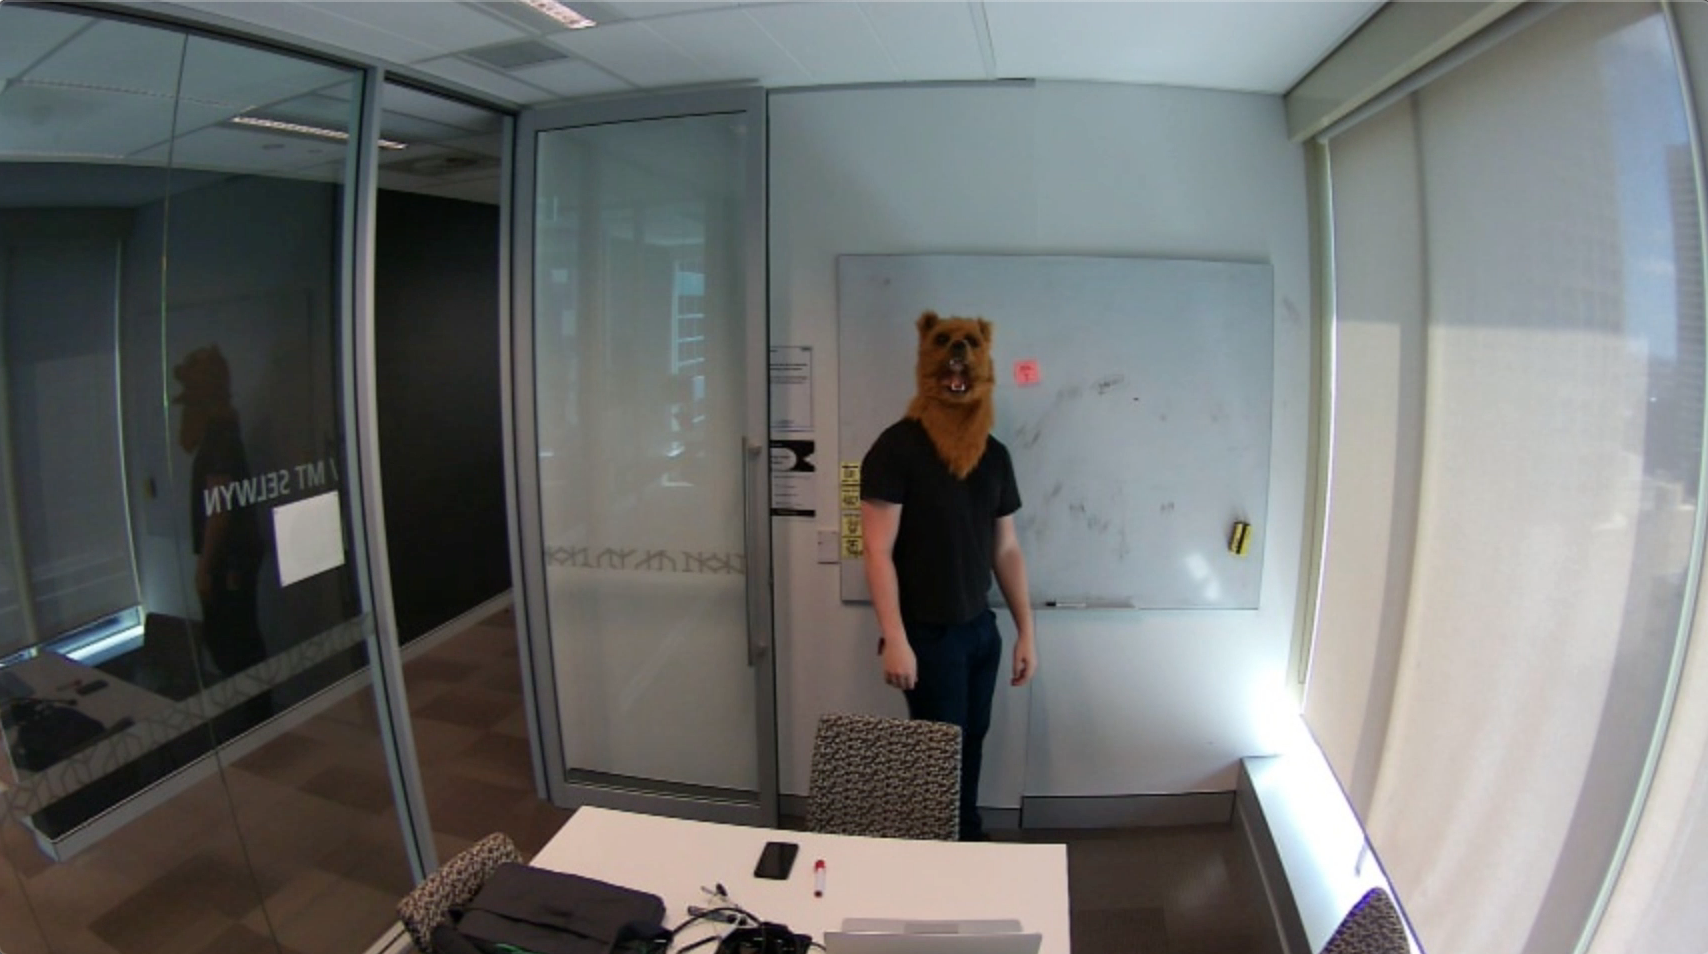Bear: (913, 306, 998, 427)
